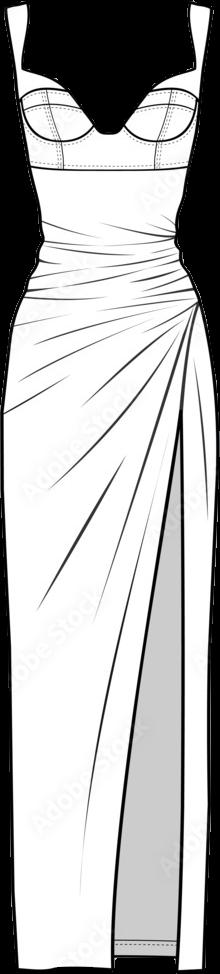Bodice: (4, 2, 211, 174)
Hemline: (16, 389, 206, 973)
Neckline: (16, 0, 200, 142)
Skirt: (1, 167, 217, 971)
Waistline: (24, 153, 190, 183)
